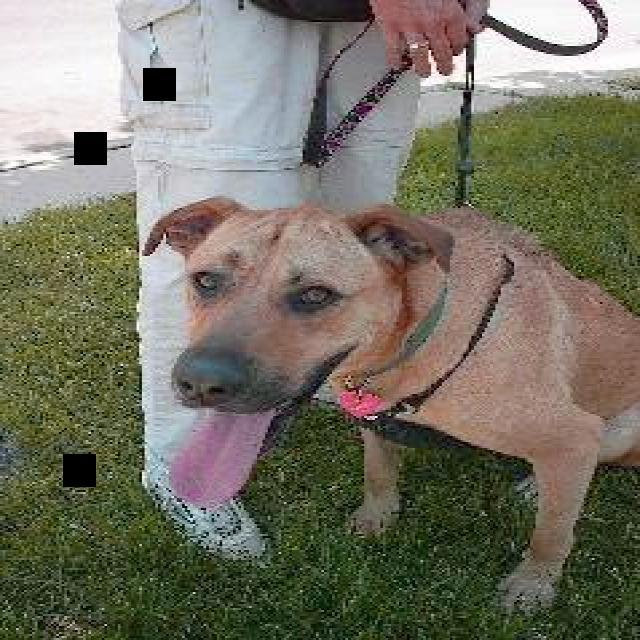adult_dog: (141, 196, 640, 621)
non-dog: (114, 1, 491, 567)
